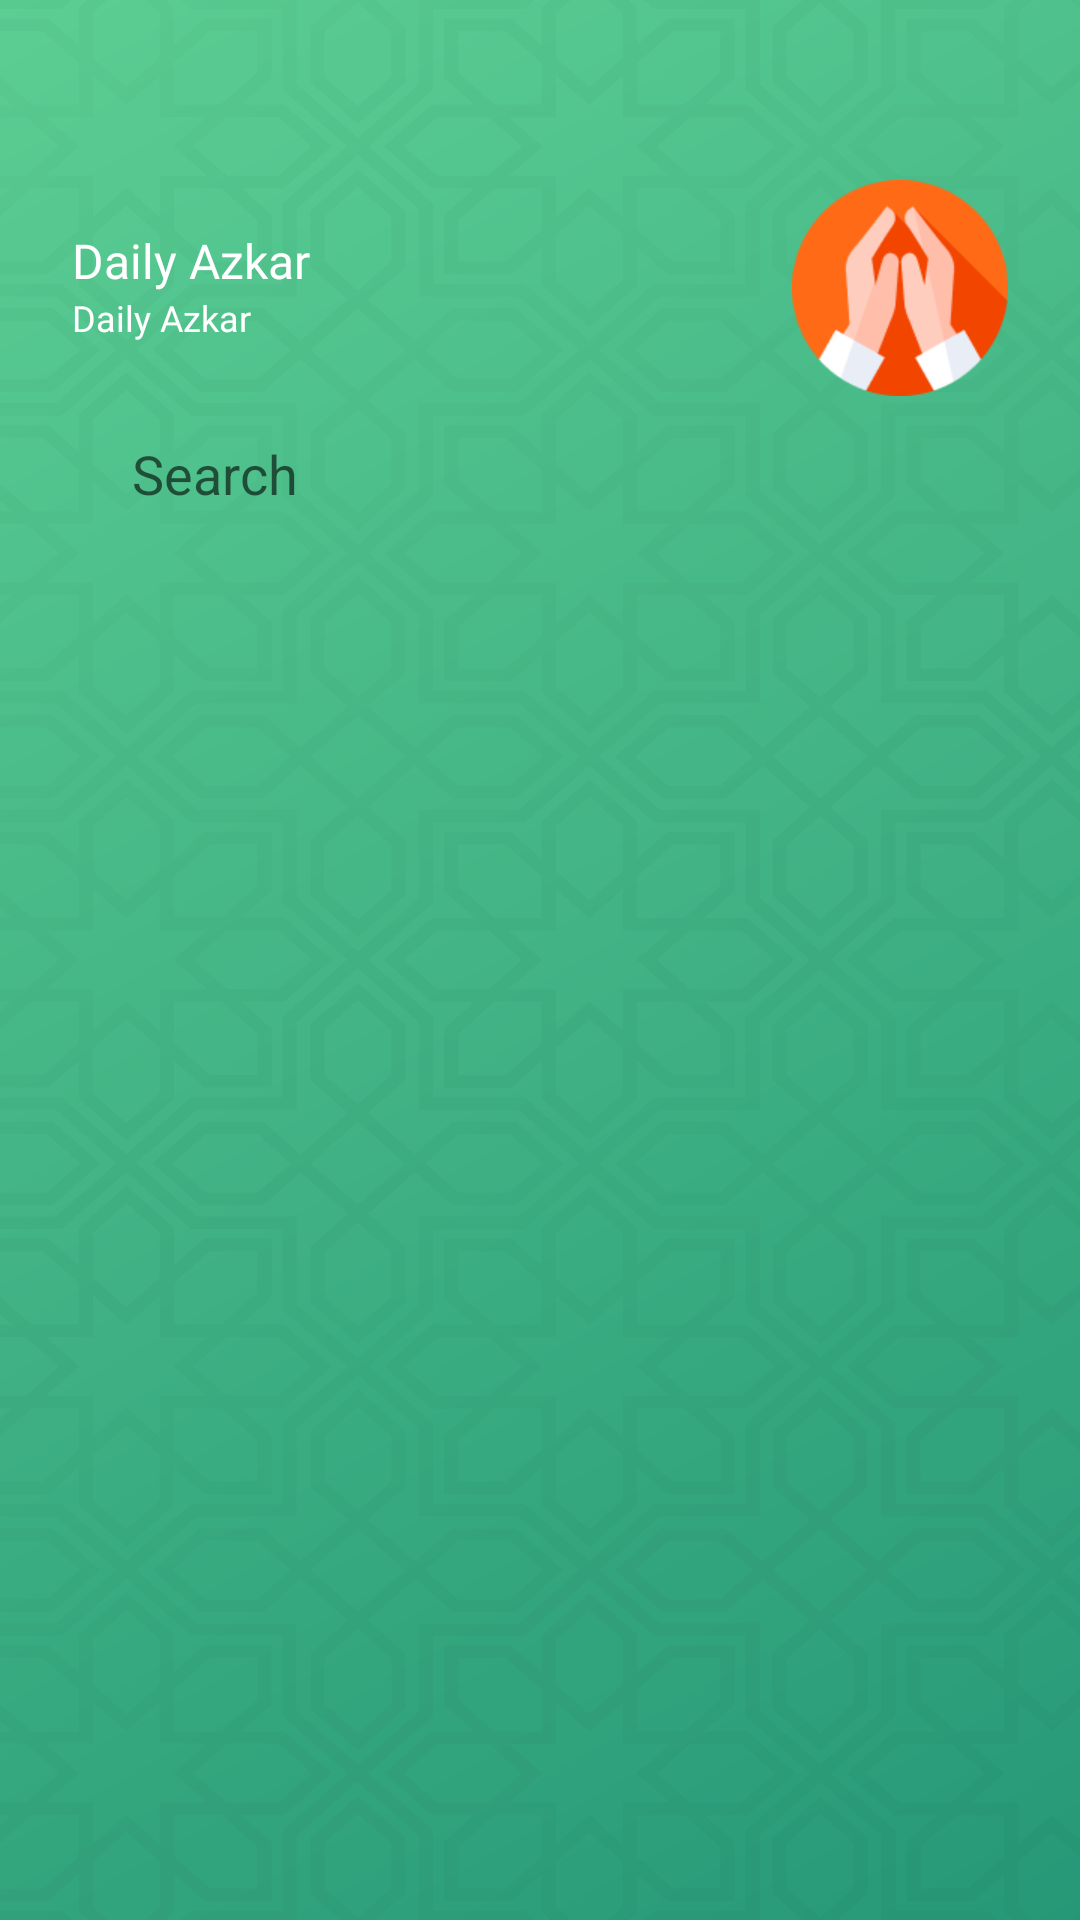

Locate icon controls on the screen. Image size 1080 x 1920, boxes as (x1, y1, x2, y2).
azkar: (792, 180, 1008, 396)
